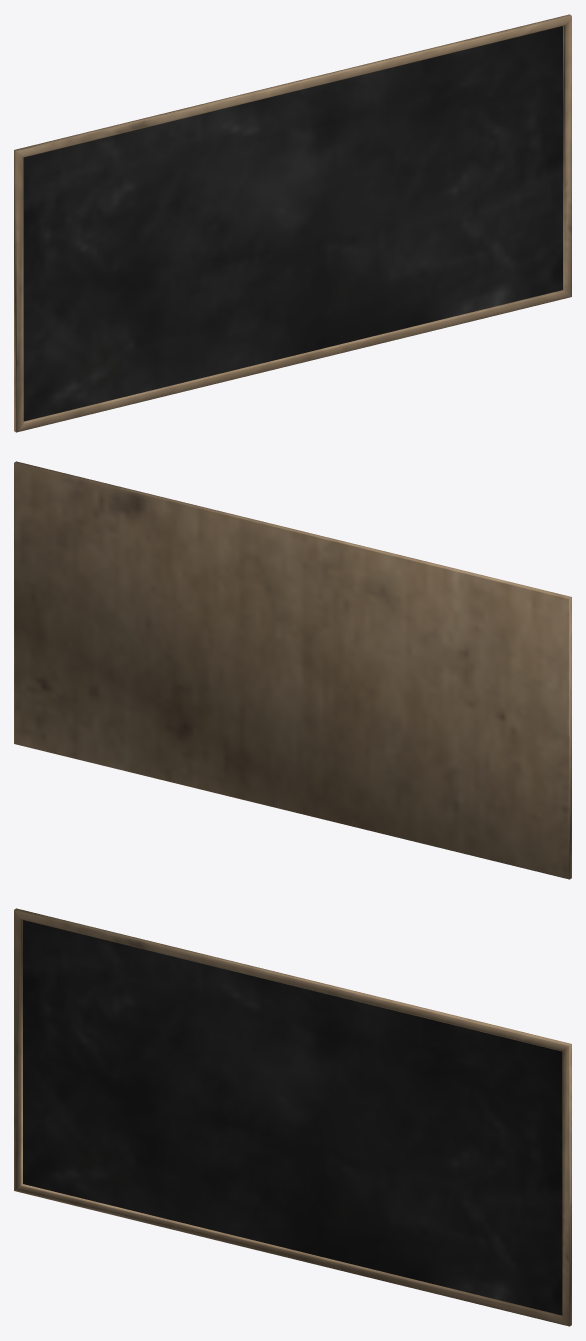
File: Blackboard.glb
3 views of the same model, one above another, from view 1: azimuth 30°, elevation 25°; view 2: azimuth 150°, elevation 25°; view 3: azimuth 330°, elevation 25° (orthographic).
Visible parts, largest first — view 1: Blackboard_Q; view 2: Blackboard_Q; view 3: Blackboard_Q.
Part boxes in pixels (box(x1,y1,x2,y2)): Blackboard_Q: box(14, 14, 571, 432); Blackboard_Q: box(14, 461, 571, 879); Blackboard_Q: box(14, 908, 571, 1326).
Bounding box in the file's own units: 1.21 × 0.5823 × 0.0114.
1 material, 1 textured.
